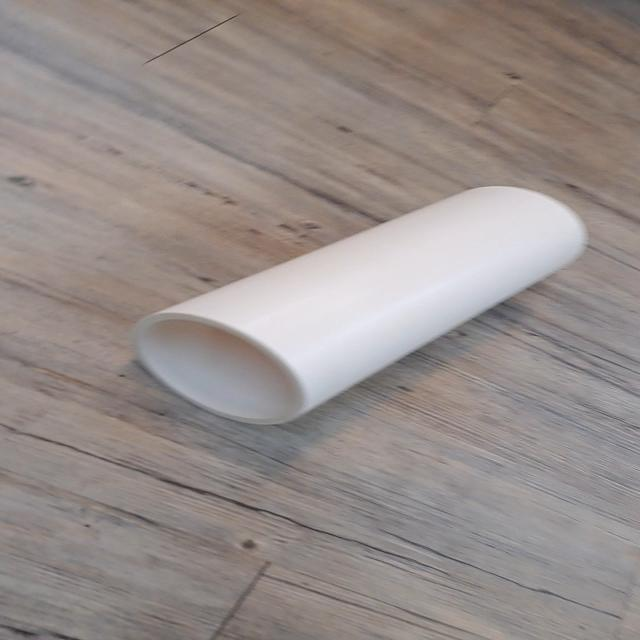CORAL: (122, 179, 599, 426)
